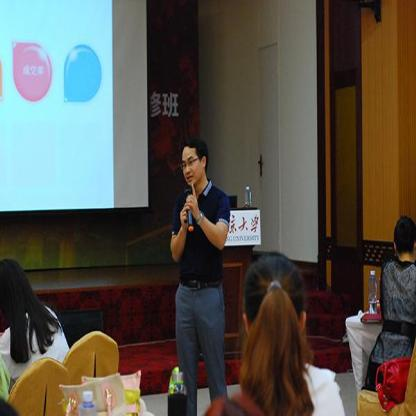head: (237, 243, 311, 350), (176, 136, 209, 192), (390, 211, 416, 264)
